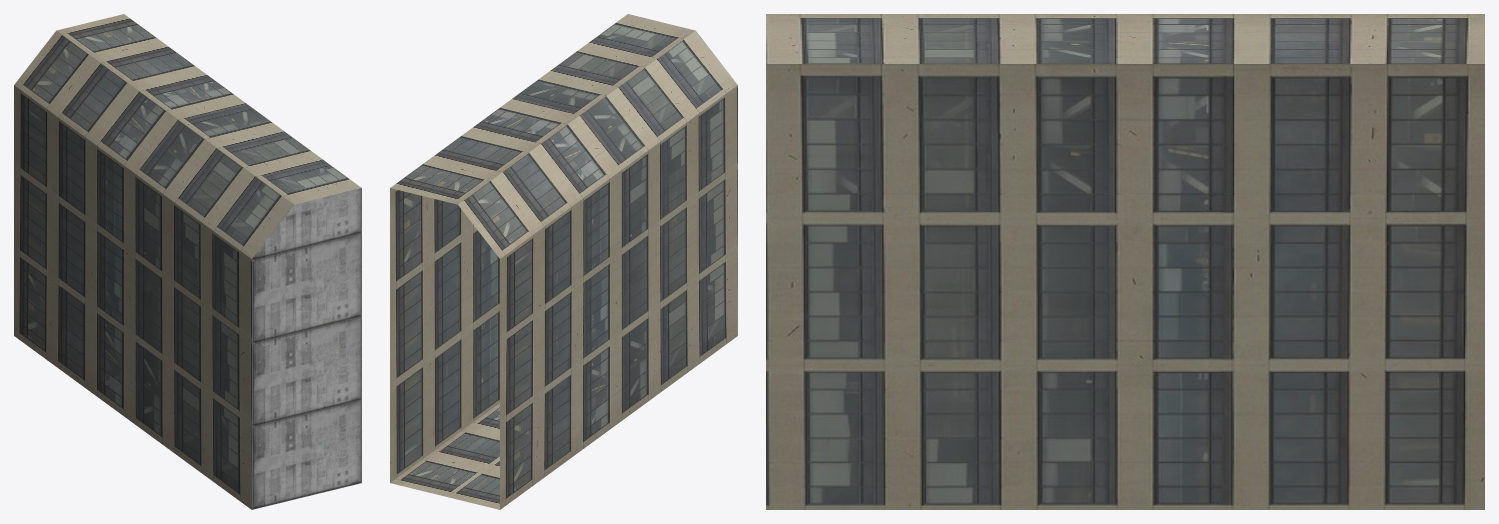
The model's file is building-79.obj.
3 views of the same model, side by side, from view 1: azimuth 30°, elevation 25°; view 2: azimuth 150°, elevation 25°; view 3: azimuth 270°, elevation 25° (orthographic). The views are drawn at different scales.
Size of the model in its own units: 3.91 by 10 by 14.61.
